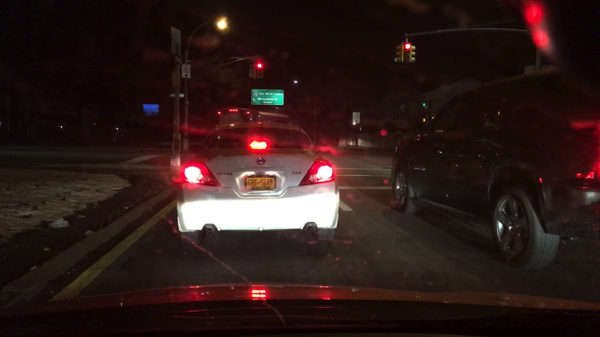bus: (218, 108, 292, 128)
car: (391, 68, 599, 270), (176, 123, 339, 242), (93, 121, 133, 145)
traffic light: (394, 43, 403, 62), (403, 42, 410, 60), (249, 60, 256, 78), (257, 60, 262, 79), (411, 45, 416, 63), (423, 96, 427, 108), (423, 118, 427, 124)
traffic sign: (251, 89, 283, 106), (170, 26, 181, 54), (181, 64, 191, 79), (352, 112, 360, 127), (169, 93, 184, 98)
